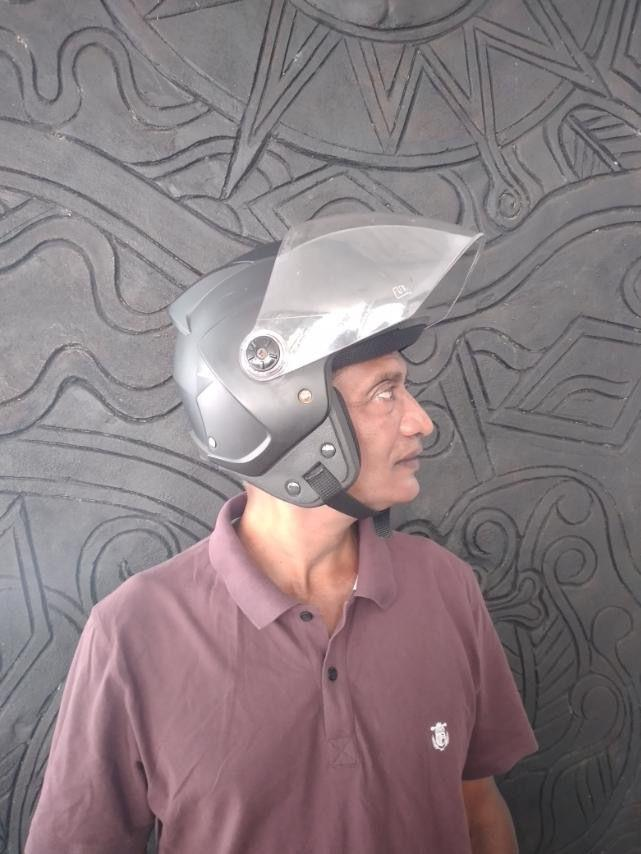helmet: (165, 210, 482, 508)
